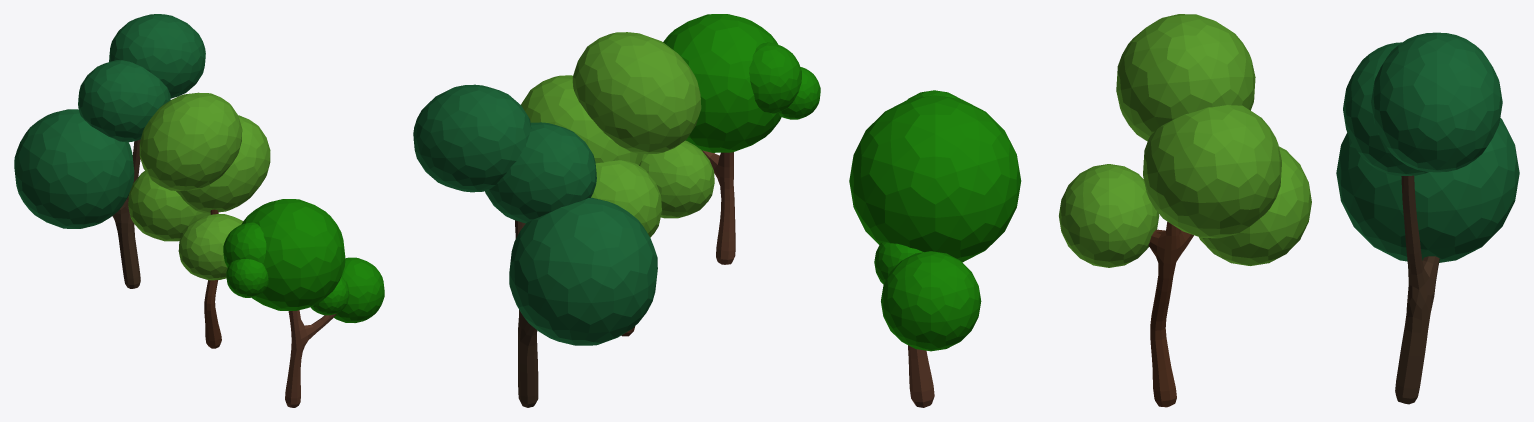
The model's file is Arboles.fbx.
3 views of the same model, side by side, from view 1: azimuth 30°, elevation 25°; view 2: azimuth 150°, elevation 25°; view 3: azimuth 270°, elevation 25° (orthographic). The views are drawn at different scales.
Parts seen in each view (by area): view 1: Cube, Cube.001, Cube.002; view 2: Cube, Cube.001, Cube.002; view 3: Cube.001, Cube, Cube.002.
Part boxes in pixels (x1,y1,x2,y2): Cube: [14, 14, 205, 288]; Cube.001: [128, 92, 270, 348]; Cube.002: [223, 199, 384, 407]; Cube: [413, 84, 657, 407]; Cube.001: [521, 32, 714, 336]; Cube.002: [663, 14, 820, 264]; Cube.001: [1059, 14, 1311, 407]; Cube: [1336, 32, 1519, 404]; Cube.002: [849, 90, 1021, 407].
Size of the model in its own units: 627 by 793 by 1234.
